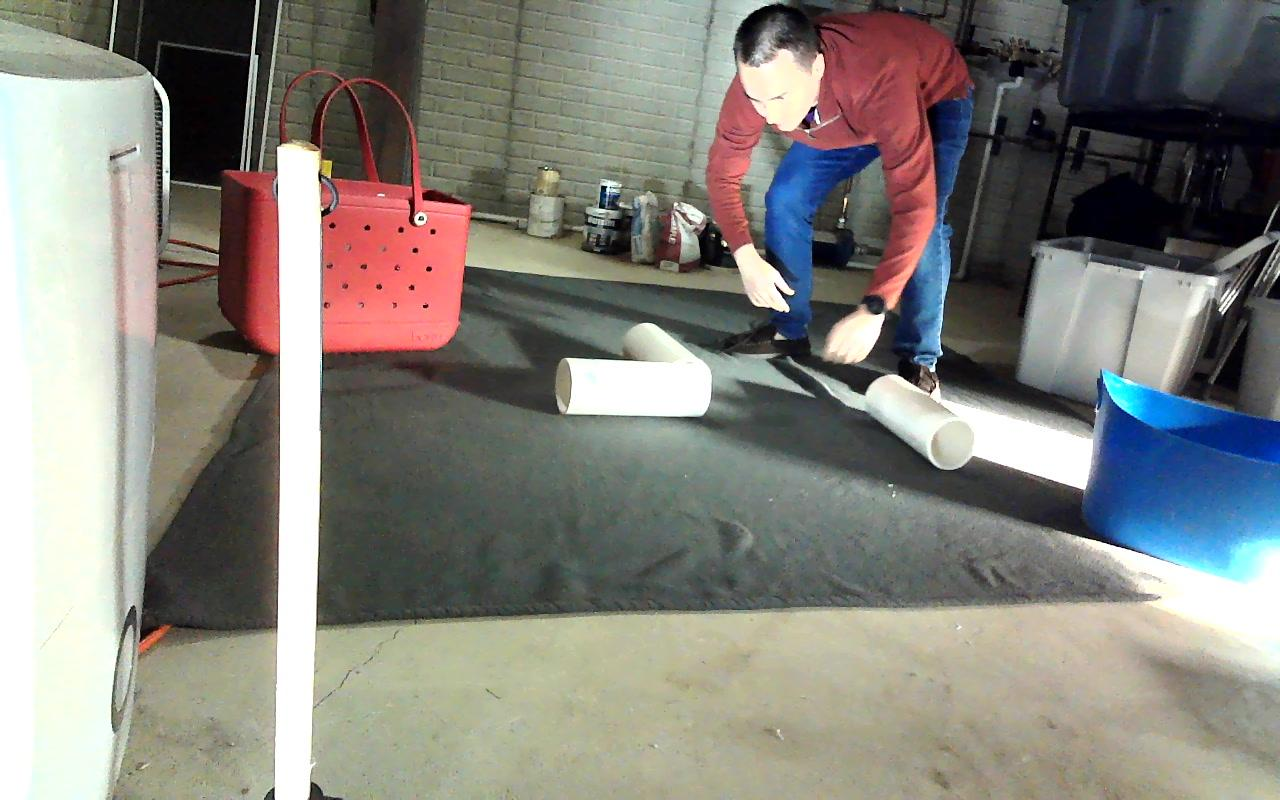coral: (864, 373, 975, 468), (554, 354, 711, 417), (622, 323, 711, 401)
